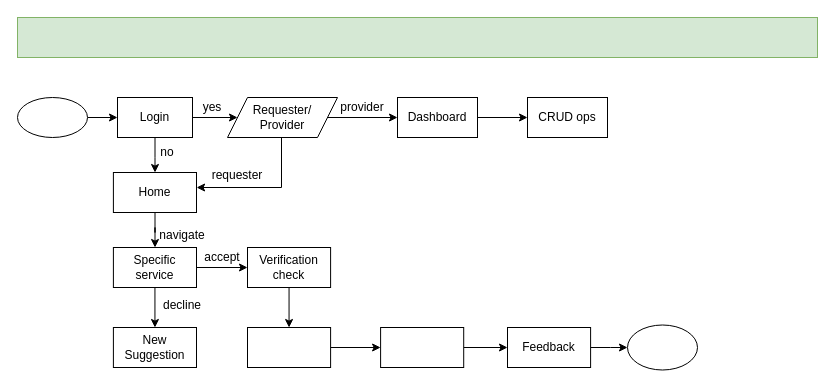
Some shapes in this 835 by 388 pixel diagram are drawn without their labels. The shapes that lost their labels are listed below. From the top down, each one's centre as x and y in pixels, then its label:
At pixel 417 37: "User Flow Diagram".
At pixel 52 117: "User".
At pixel 288 347: "Service completion".
At pixel 422 347: "Payment".
At pixel 662 347: "end".
